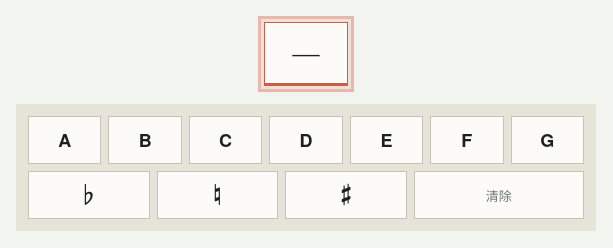
Test case: NoteKeyboard › clears only the active slot
The image size is (613, 248).
Click the button "B" at [145, 140], box [108, 116, 182, 164]
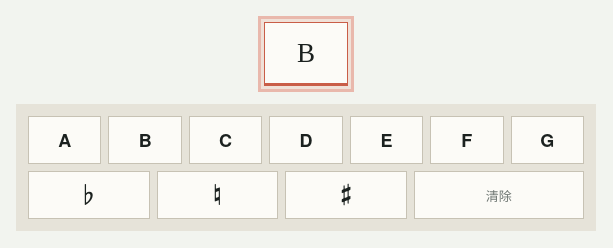
Click the button "清除" at [499, 195], box [414, 171, 584, 219]
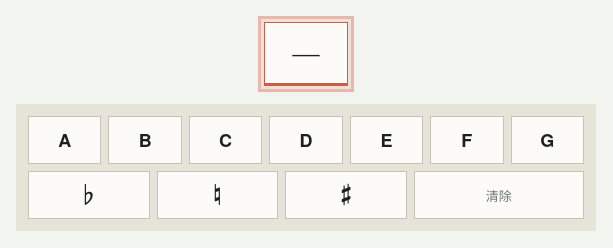
expect the button named "第 1 个音：未填写" reads "—": met, box [264, 22, 348, 86]
